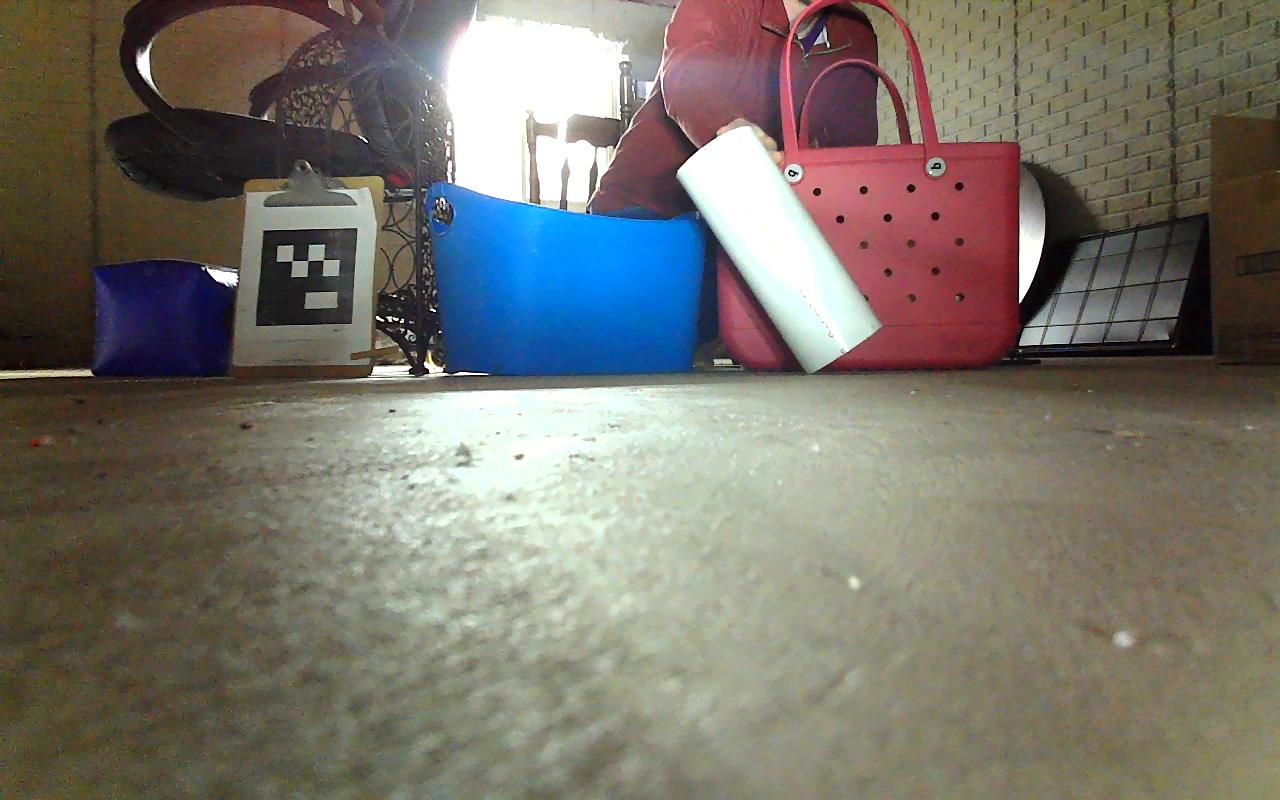coral: (669, 126, 892, 379)
